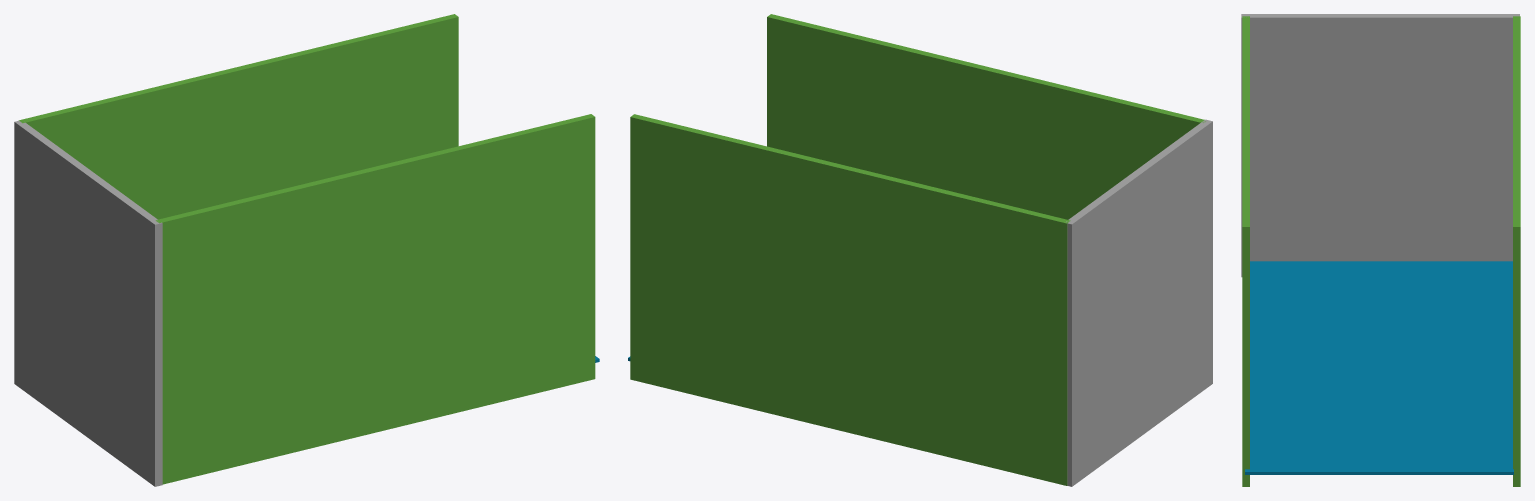
The model's file is Walls high.fbx.
3 views of the same model, side by side, from view 1: azimuth 30°, elevation 25°; view 2: azimuth 150°, elevation 25°; view 3: azimuth 270°, elevation 25° (orthographic).
Parts seen in each view (by area): view 1: wall1_high, wall2_high, wall3_high; view 2: wall2_high, wall1_high, wall3_high; view 3: wall3_high, floor_high, wall2_high, wall1_high.
Boxes of the visible parts, <box> form: wall1_high: <box>155,114,595,484</box>; wall2_high: <box>19,14,458,219</box>; wall3_high: <box>14,120,162,486</box>; wall2_high: <box>630,114,1070,485</box>; wall1_high: <box>767,14,1205,219</box>; wall3_high: <box>1066,119,1212,486</box>; wall3_high: <box>1241,14,1519,277</box>; floor_high: <box>1245,261,1513,474</box>; wall2_high: <box>1513,16,1520,486</box>; wall1_high: <box>1242,16,1249,486</box>.
Bounding box in the file's own units: 563 × 308 × 316.
